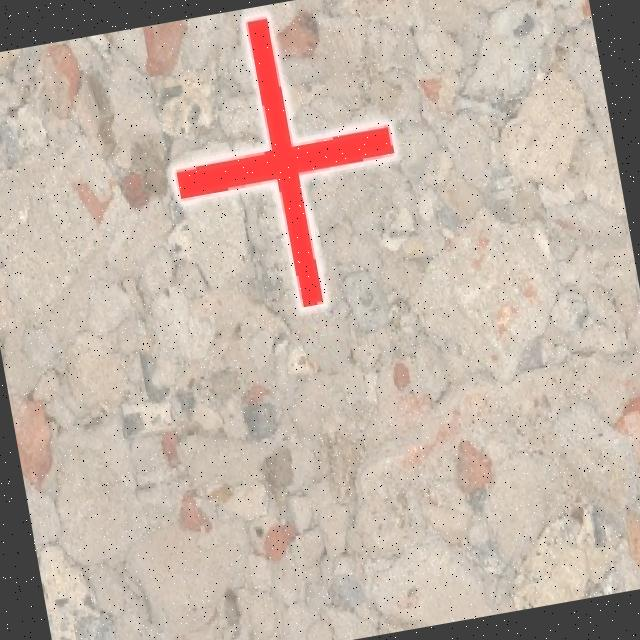x_marker: (148, 0, 416, 323)
